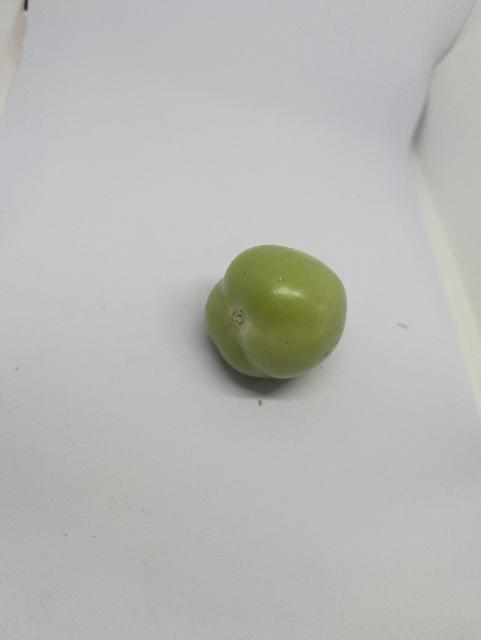green: (198, 234, 359, 395)
